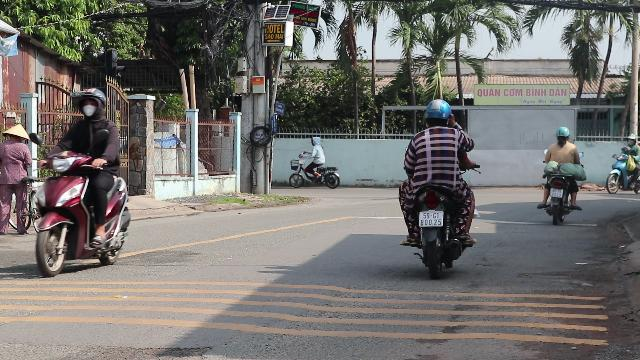helmet: (422, 98, 452, 128), (77, 88, 105, 120)
licenseplate: (420, 211, 442, 226)
motorcyclist: (30, 85, 134, 275), (394, 97, 480, 275)
